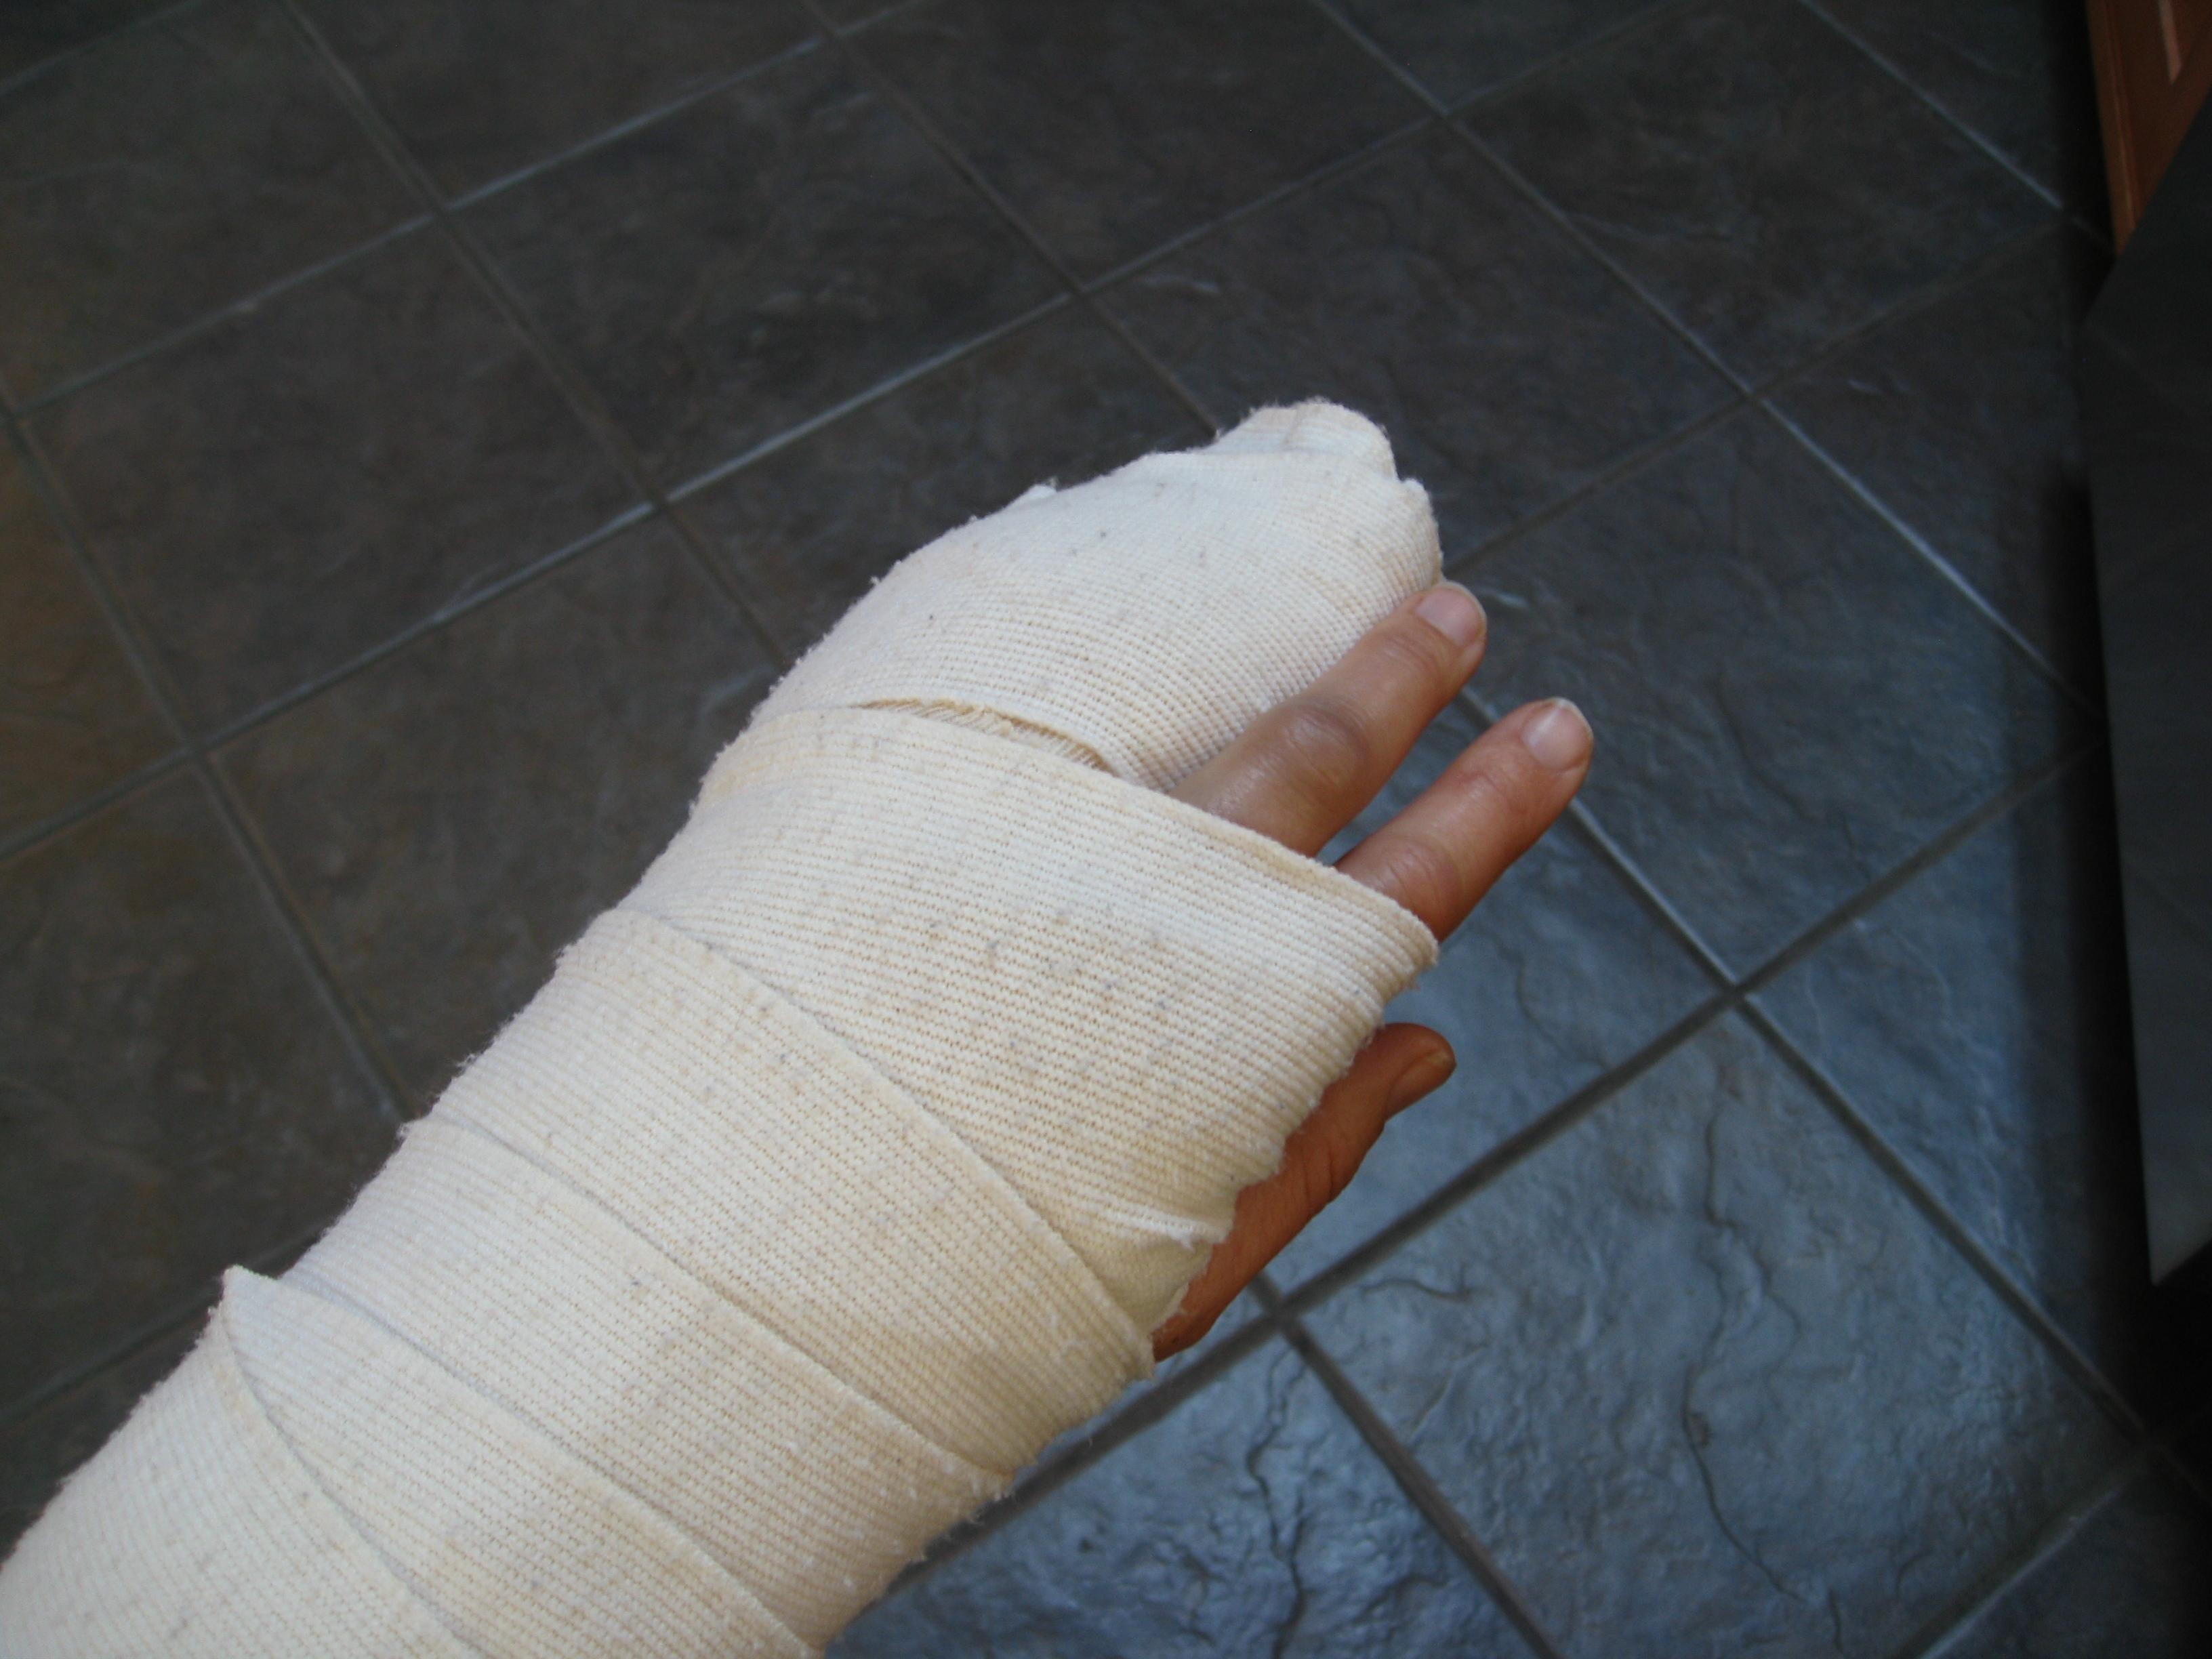injured: (618, 314, 1512, 1509)
